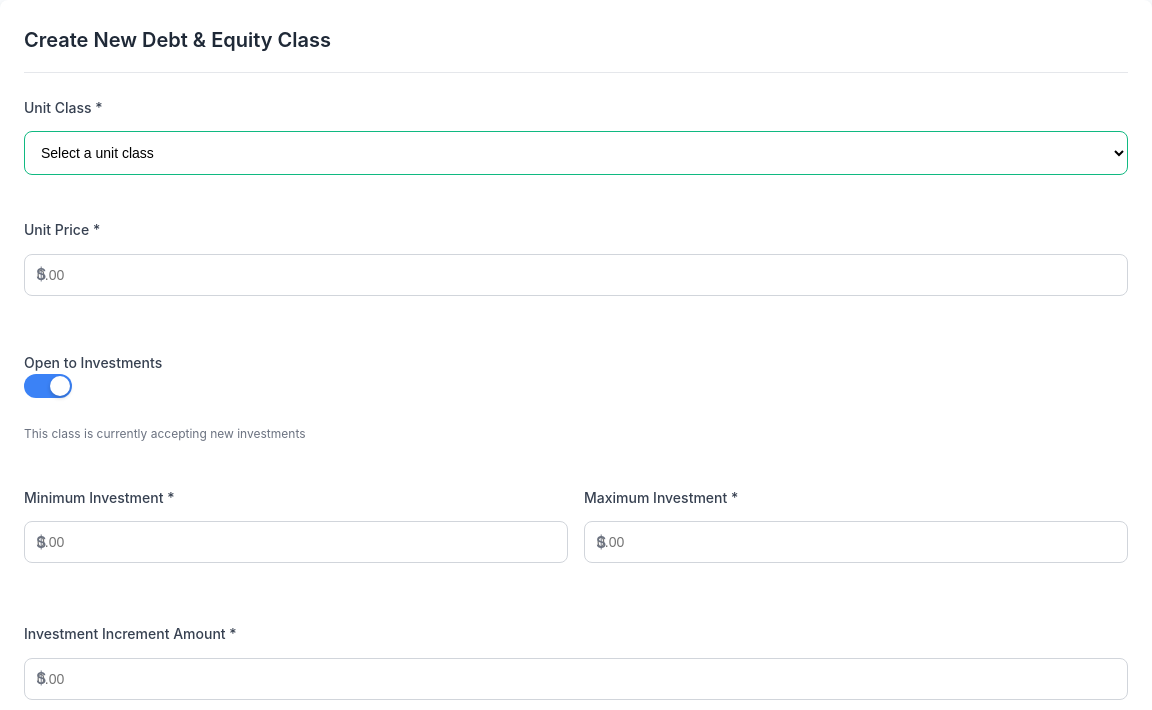
Test: DebtEquityClassForm › creates custom class inline and selects it
Select "+ Create your own" in the dropdown labelled "Unit Class *". click: (576, 153)
box: [24,131,1128,175]
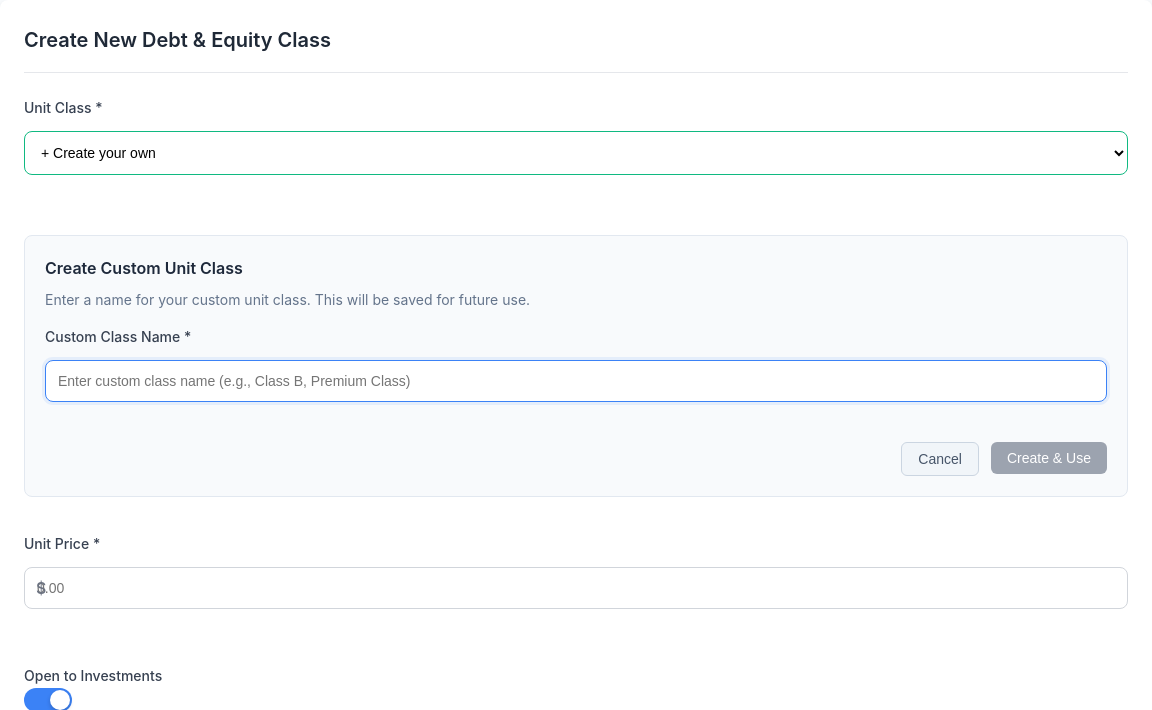
Type "Class B" into the field with placeholder "Enter custom class name (e.g., Class B, Premium Class)". click: (576, 381)
box: [45,360,1107,402]
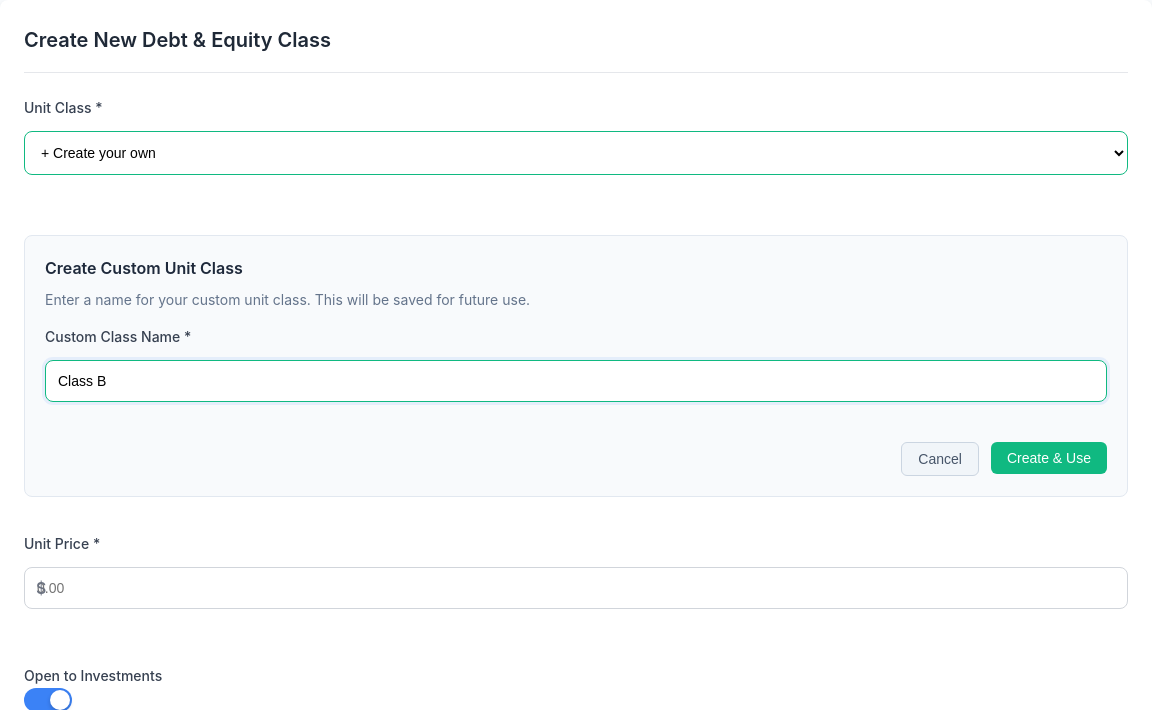
Click the button "Create & Use". click: (1049, 458)
box: [991,442,1107,474]
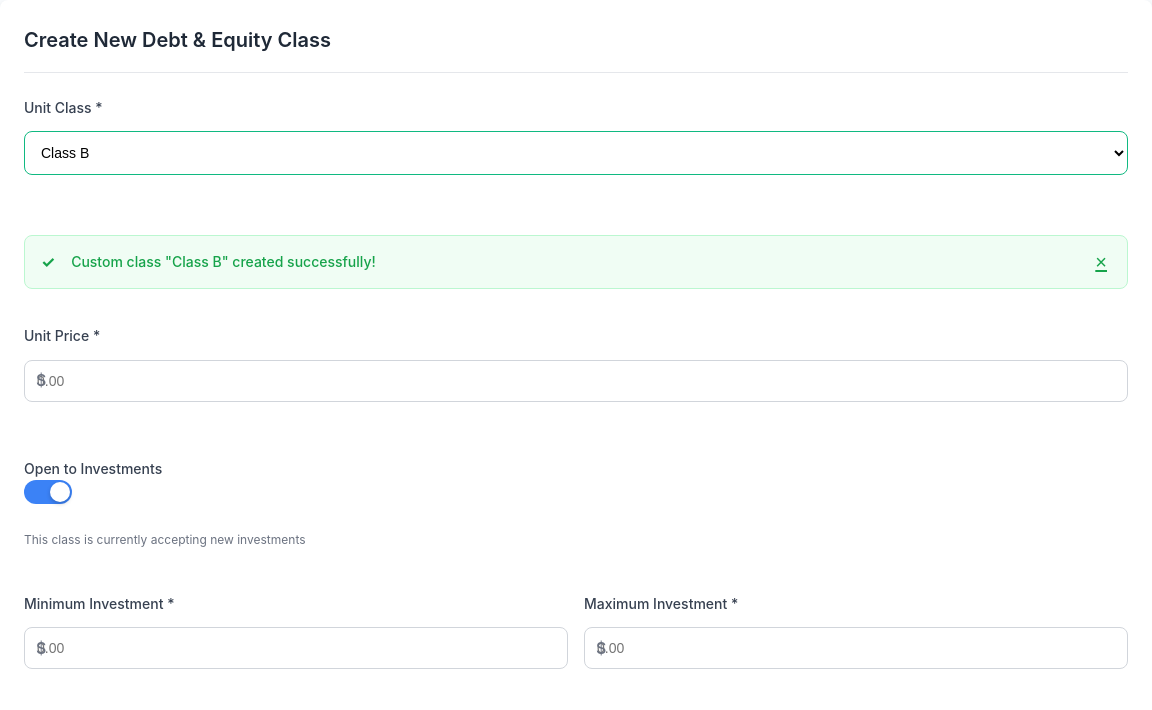
Expected: the text "Custom class \"Class B\" created successfully!" is shown, [71,251,376,274]
